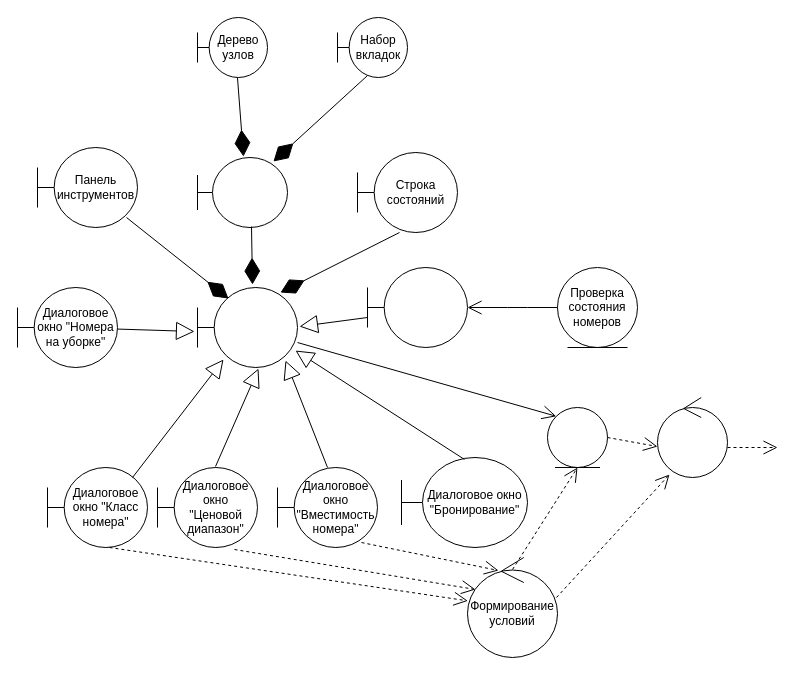
Image size: 809x675. Some labels were removed from this diagram. The box of each missing label's shape, as (x1, y1, x2, y2) in pixels:
Диалоговое окно "Список свободных номеров": (366, 266, 468, 348)
Диалоговое окно работы с БД: (196, 286, 298, 368)
Раздвижная панель: (196, 156, 288, 228)
Соединение с БД: (656, 396, 728, 478)
Таблица: (546, 406, 608, 468)
